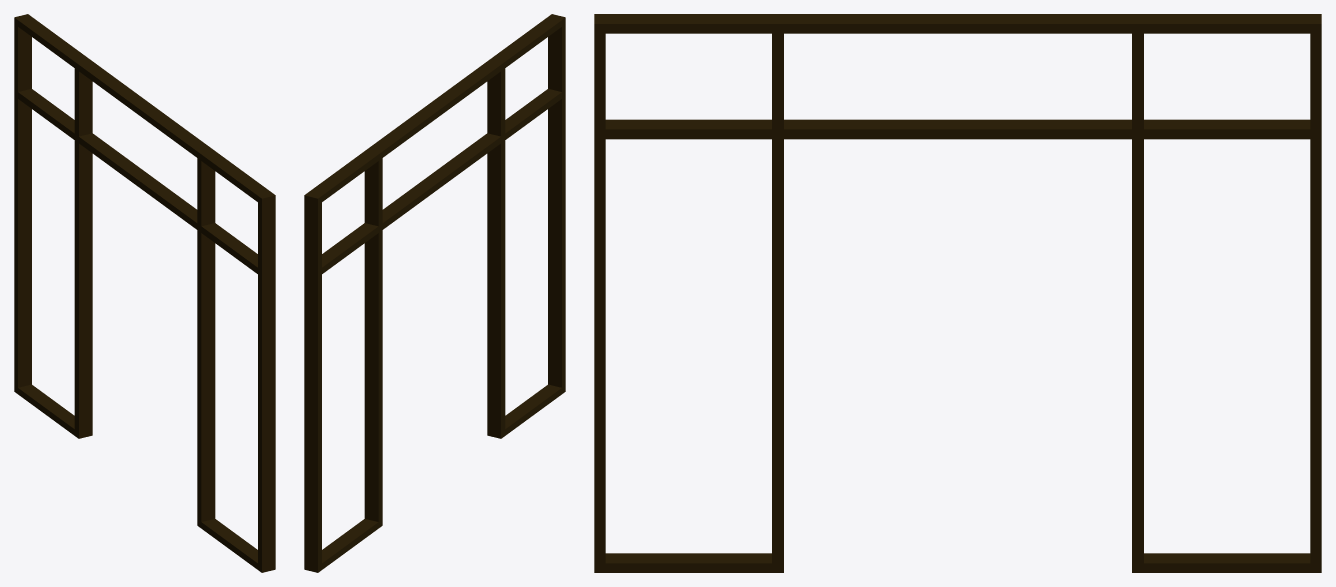
The model's file is ARC General Frame.fbx.
3 renders of one model, left to right at view 1: azimuth 30°, elevation 25°; view 2: azimuth 150°, elevation 25°; view 3: azimuth 270°, elevation 25°, orthographic. The views are drawn at different scales.
Visible parts, largest first — view 1: Cube; view 2: Cube; view 3: Cube.
Part boxes in pixels (bbox=[...]): Cube: bbox=[14, 14, 275, 572]; Cube: bbox=[304, 14, 565, 572]; Cube: bbox=[594, 14, 1321, 572].
Size of the model in its own units: 101 by 2599 by 3119.
